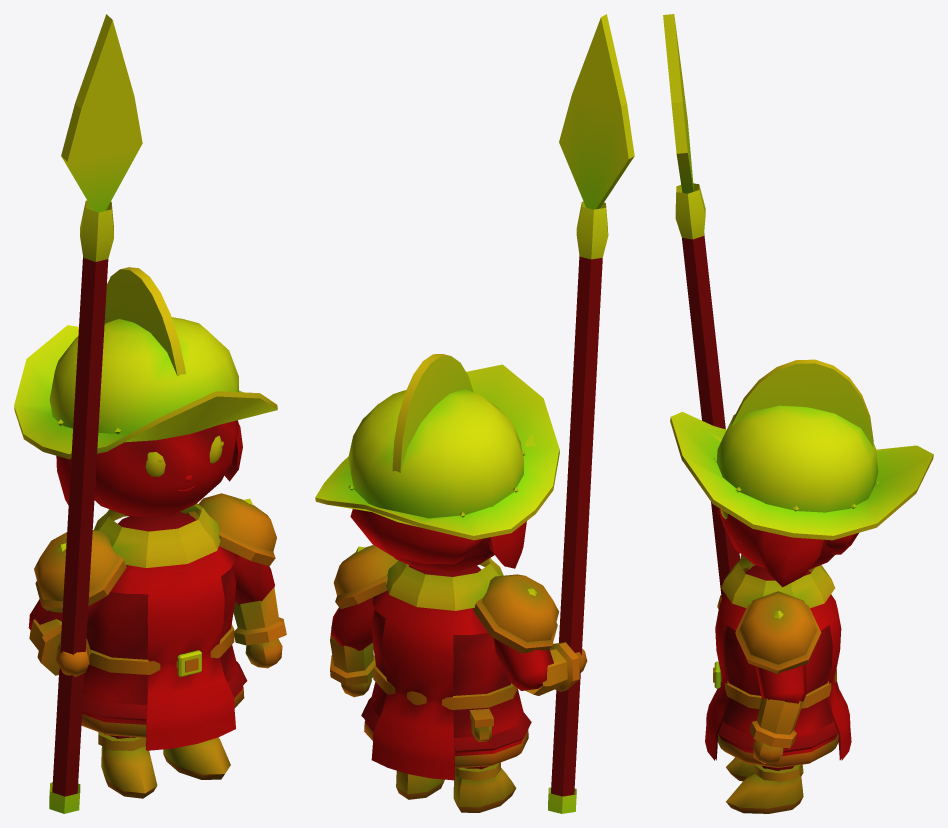
The model's file is Spearman.glb.
The picture shows the model from 3 angles, left to right: view 1: azimuth 30°, elevation 25°; view 2: azimuth 150°, elevation 25°; view 3: azimuth 270°, elevation 25°; orthographic projection. The views are drawn at different scales.
Visible parts, largest first — view 1: Spearman; view 2: Spearman; view 3: Spearman.
Boxes of the visible parts, x1=… form: Spearman: x1=14, y1=14, x2=286, y2=813; Spearman: x1=315, y1=14, x2=634, y2=813; Spearman: x1=663, y1=14, x2=933, y2=813.
Size of the model in its own units: 0.5654 by 1.64 by 0.5502.
